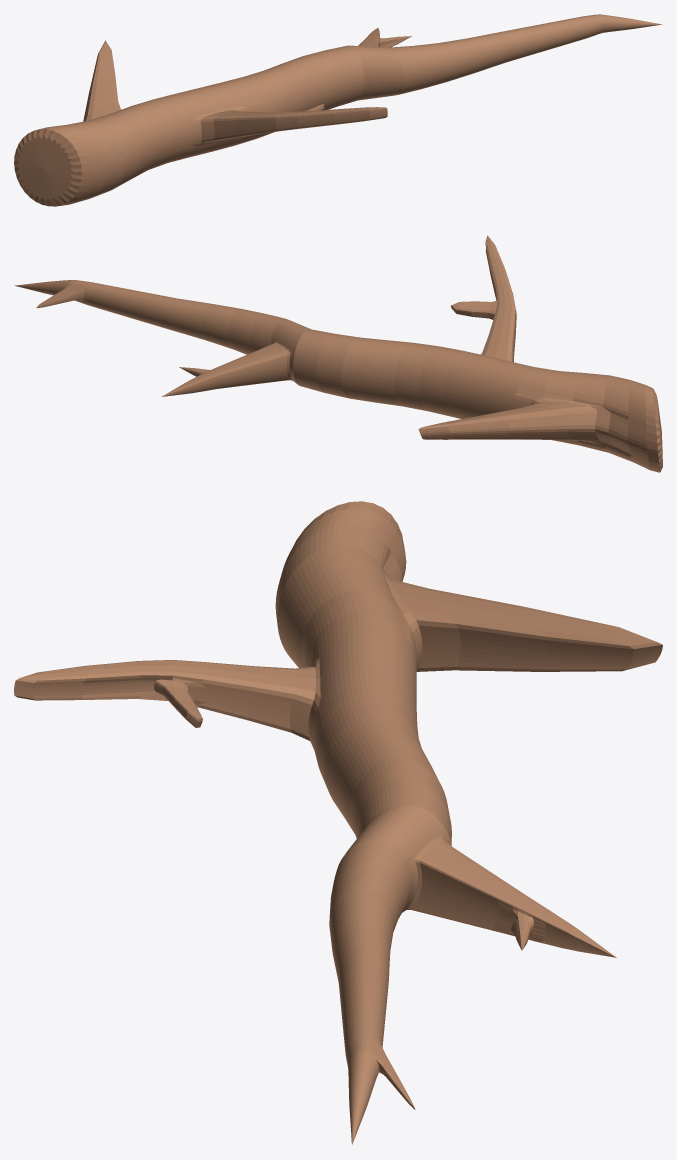
The model's file is Stick.fbx.
The picture shows the model from 3 angles, top to bottom: view 1: azimuth 30°, elevation 25°; view 2: azimuth 150°, elevation 25°; view 3: azimuth 270°, elevation 25°; orthographic projection. The views are drawn at different scales.
Visible parts, largest first — view 1: Cylinder; view 2: Cylinder; view 3: Cylinder.
Part boxes in pixels (x1,y1,x2,y2): Cylinder: (14,14,662,206); Cylinder: (15,235,662,472); Cylinder: (14,501,662,1144).
Bounding box in the file's own units: 358 × 54.32 × 171.
